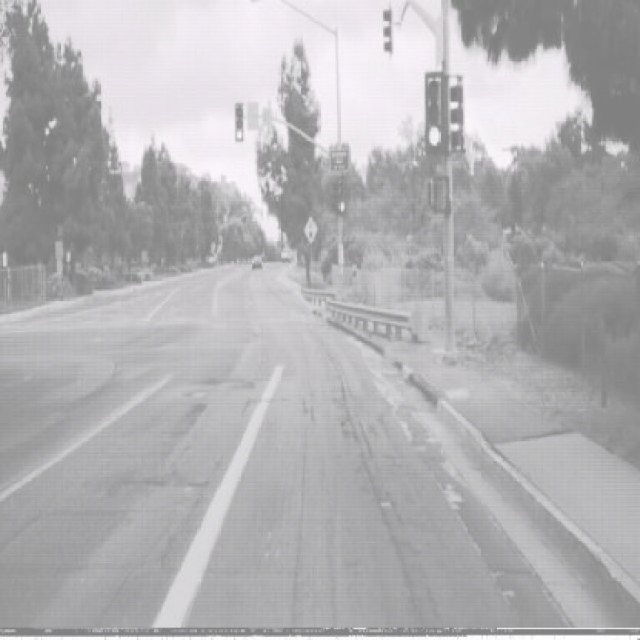signalAhead: (303, 214, 319, 245)
